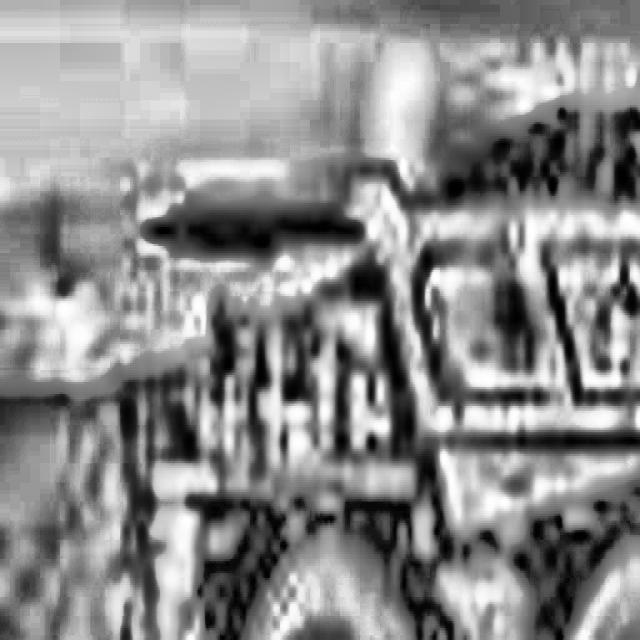dump_truck: (140, 74, 640, 640)
